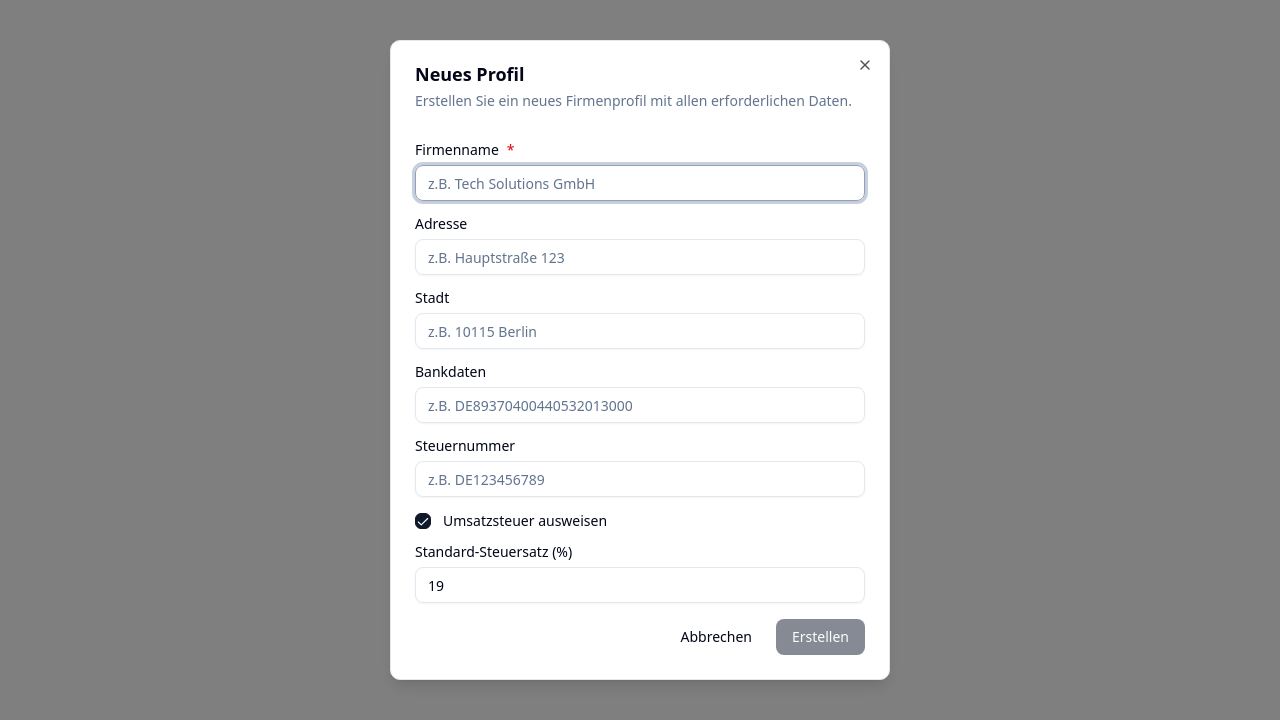
Test: ProfileDialog › disables submit button when name is empty
Expected: the button "Erstellen" is disabled, [776, 619, 865, 655]
Note: Fill in name - button should be enabled
Type "Test Company" into the field labelled "Firmenname *".
click(640, 183); type("Test Company")  # box [415, 165, 865, 201]
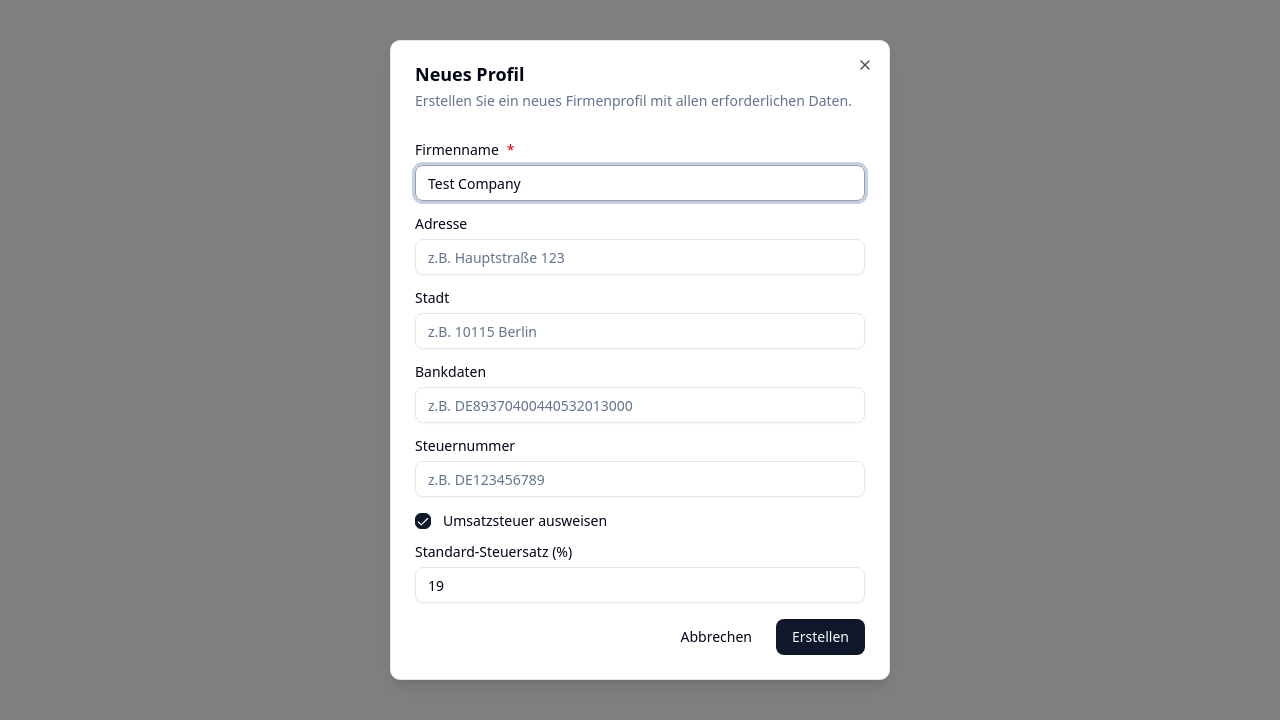
Expected: the button "Erstellen" is enabled, [776, 619, 865, 655]
